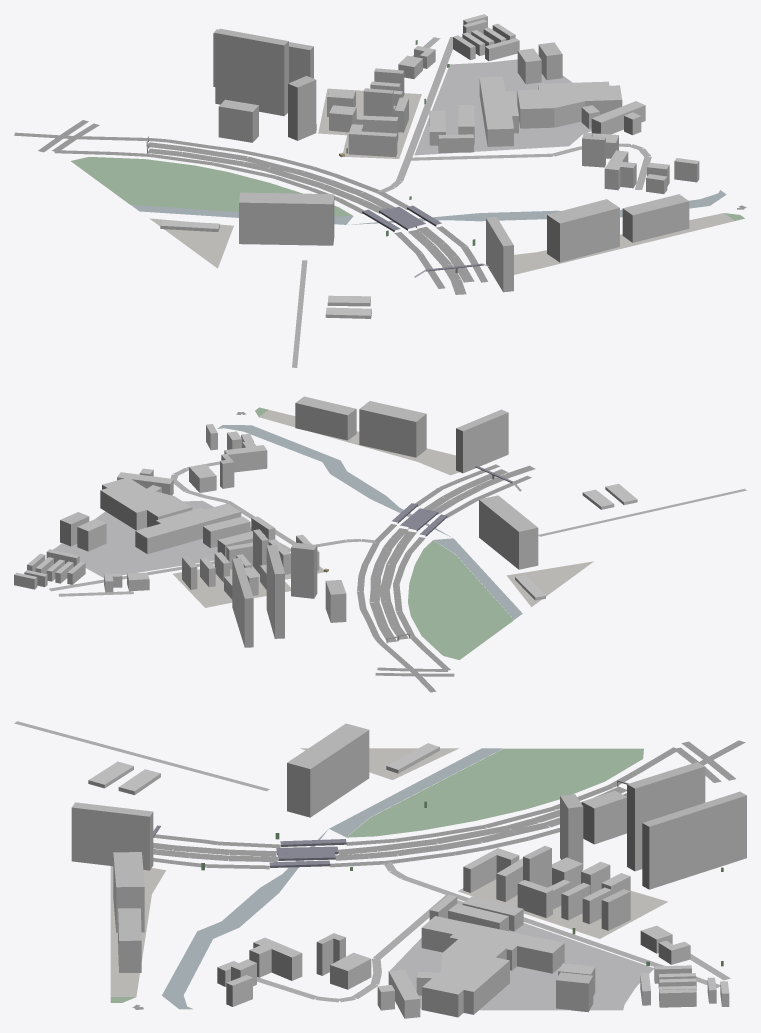
The picture shows the model from 3 angles, top to bottom: view 1: azimuth 30°, elevation 25°; view 2: azimuth 150°, elevation 25°; view 3: azimuth 270°, elevation 25°; orthographic projection. The views are drawn at different scales.
Bounding box in the file's own units: 567 × 74.68 × 593.
